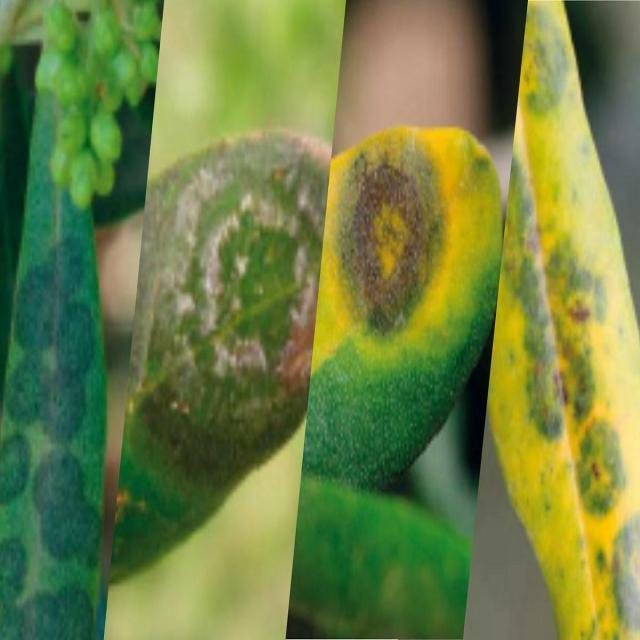OlivePeacockSpot: (488, 0, 640, 639), (117, 133, 329, 544), (304, 127, 502, 489), (0, 97, 106, 639)
